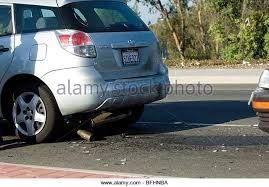Dent: (130, 58, 165, 101)
